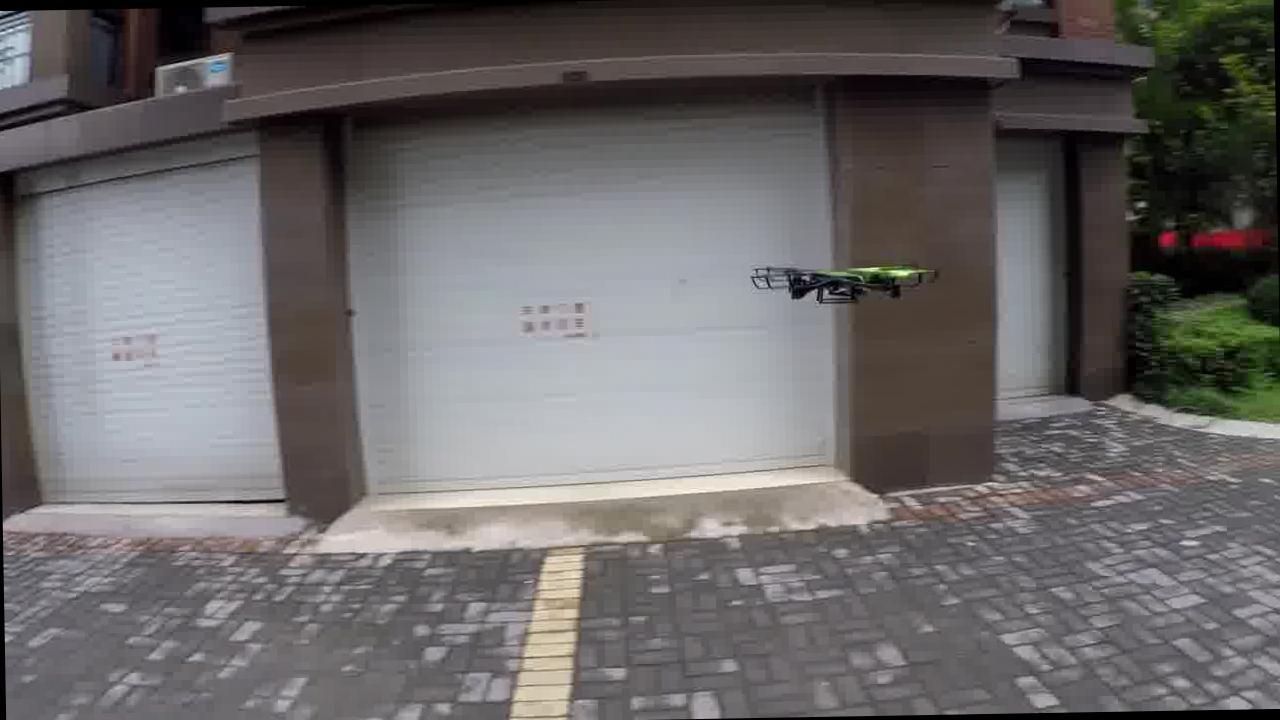drone: (734, 250, 943, 318)
